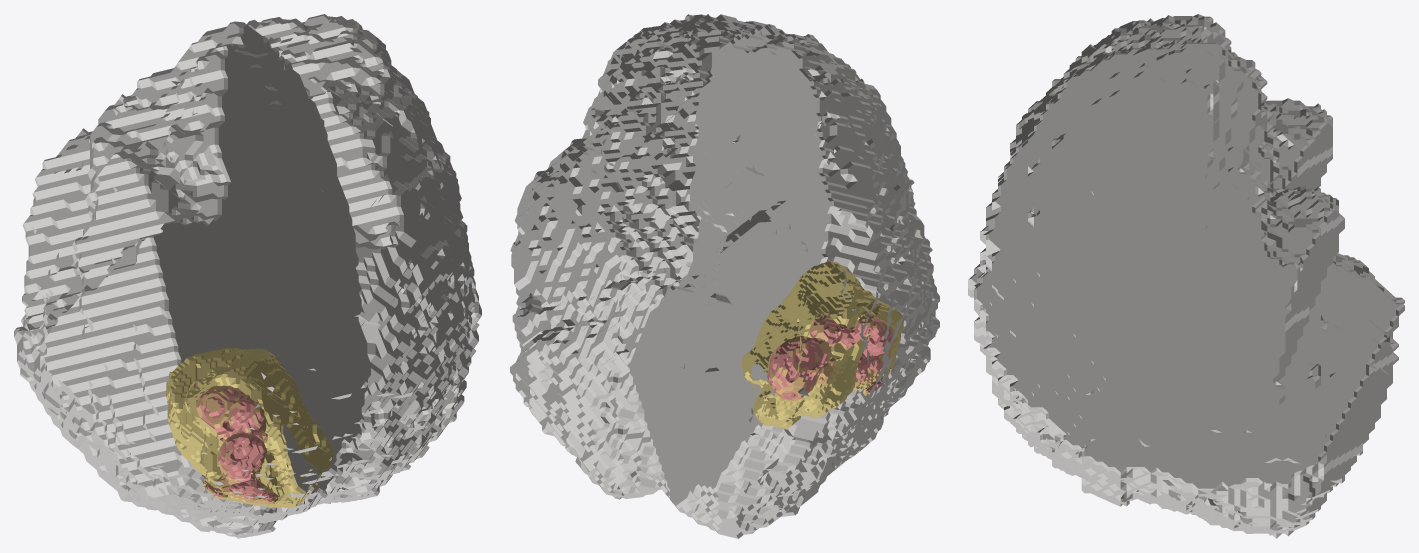
The picture shows the model from 3 angles, left to right: view 1: azimuth 30°, elevation 25°; view 2: azimuth 150°, elevation 25°; view 3: azimuth 270°, elevation 25°; orthographic projection. The views are drawn at different scales.
Parts seen in each view (by area): view 1: brain_left, brain_right, edema, enhancing, core; view 2: brain_left, brain_right, edema, enhancing, core; view 3: brain_right, brain_left.
Part boxes in pixels (x1,y1,x2,y2): brain_left: [14, 21, 370, 538]; brain_right: [247, 14, 481, 504]; edema: [166, 347, 333, 508]; enhancing: [199, 388, 274, 502]; core: [196, 385, 278, 504]; brain_left: [627, 25, 939, 538]; brain_right: [510, 14, 784, 499]; edema: [742, 261, 903, 429]; enhancing: [767, 314, 893, 399]; core: [766, 310, 894, 401]; brain_right: [974, 42, 1404, 538]; brain_left: [968, 14, 1404, 303].
Bounding box in the file's own units: 142 × 174 × 146.
